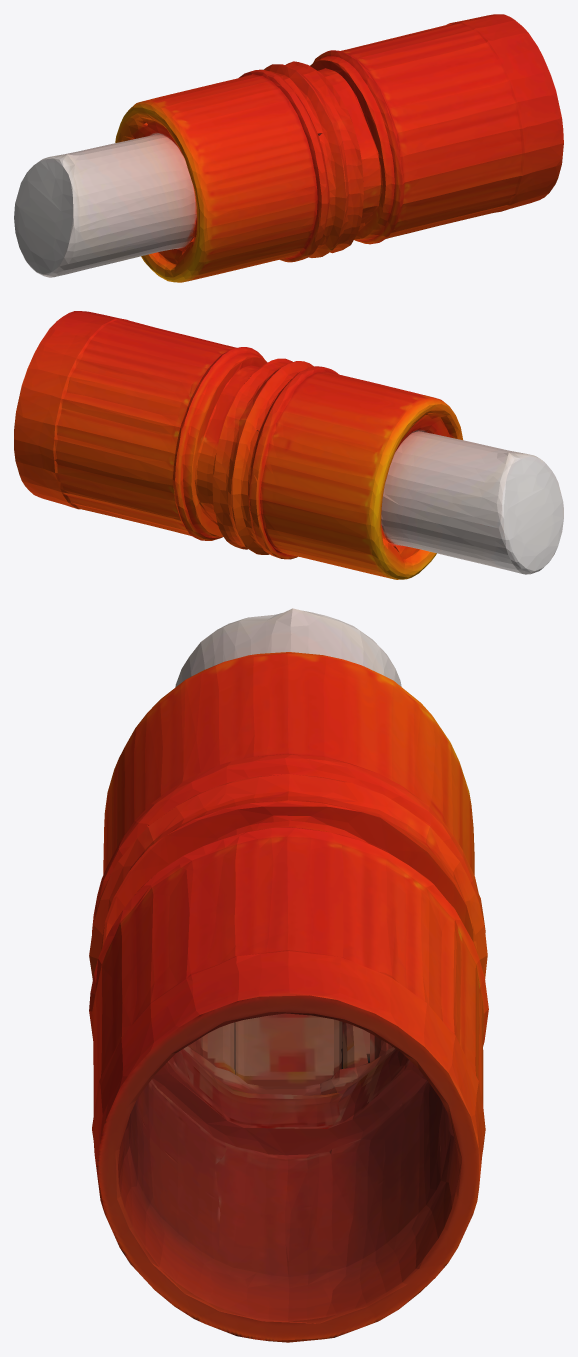
The model's file is glue_stick.glb.
3 renders of one model, top to bottom at view 1: azimuth 30°, elevation 25°; view 2: azimuth 150°, elevation 25°; view 3: azimuth 270°, elevation 25°, orthographic. The views are drawn at different scales.
Parts seen in each view (by area): view 1: sample3d_67.obj; view 2: sample3d_67.obj; view 3: sample3d_67.obj.
Part boxes in pixels (left/top/right/bottom): sample3d_67.obj: left=14, top=14, right=563, bottom=282; sample3d_67.obj: left=14, top=311, right=563, bottom=579; sample3d_67.obj: left=89, top=608, right=488, bottom=1342.
Bounding box in the file's own units: 0.125 × 0.0449 × 0.045.
Materials: 1 (1 with a texture image).
